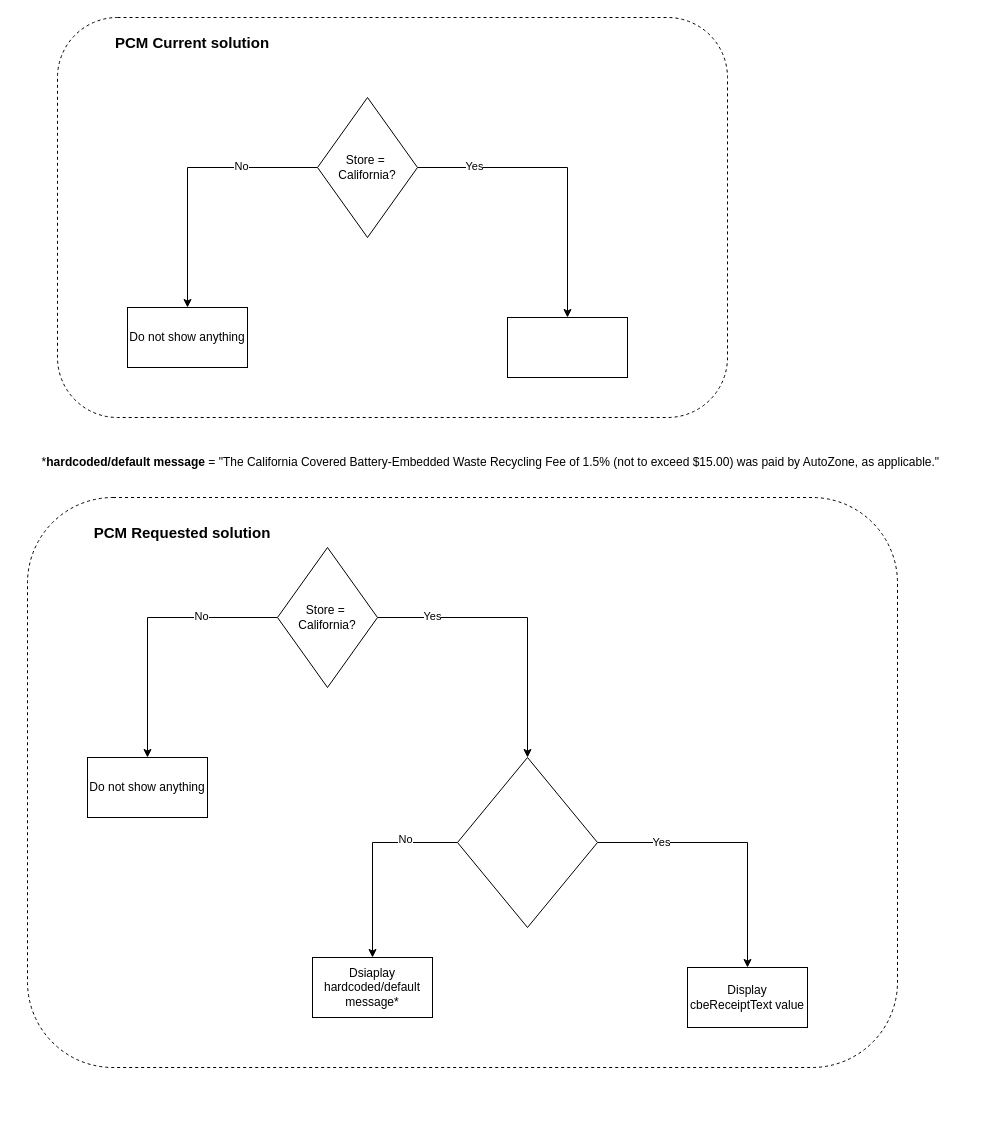
Image size: 984x1135. Some labels were removed from this diagram. Each missing label, with the box of its shape:
cbeReceiptText has value?: (456, 756, 598, 928)
Display hardcoded/default message*: (506, 316, 628, 378)
